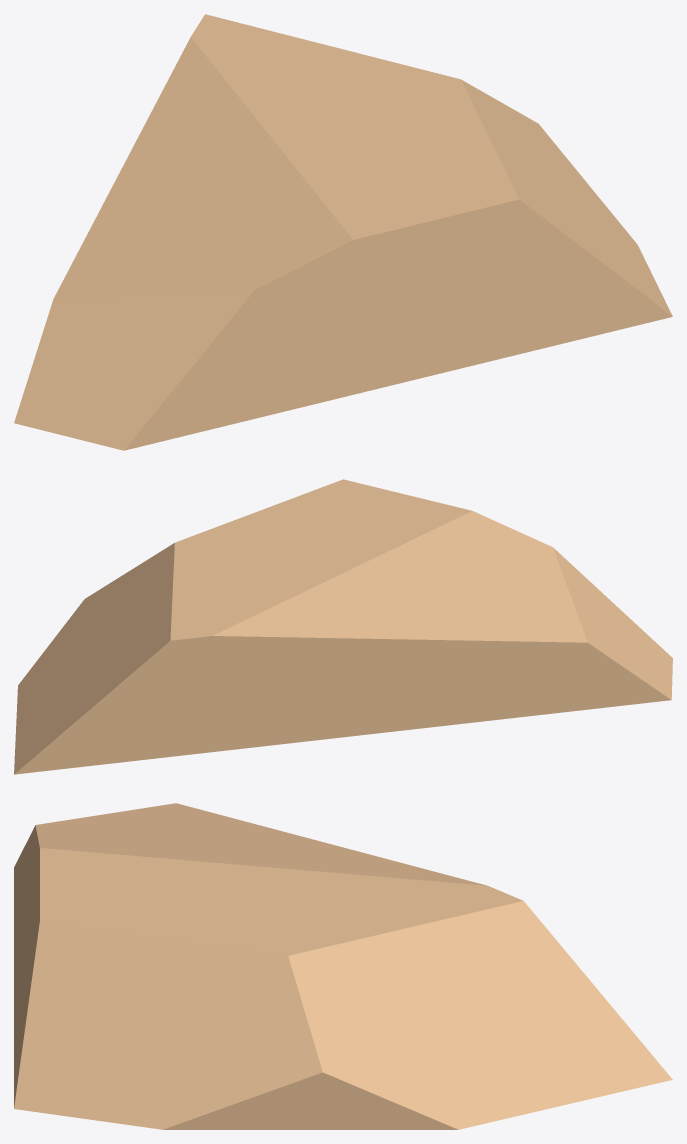
File: Rock_Flat_s_10.fbx
3 renders of one model, top to bottom at view 1: azimuth 30°, elevation 25°; view 2: azimuth 150°, elevation 25°; view 3: azimuth 270°, elevation 25°, orthographic. The views are drawn at different scales.
Parts seen in each view (by area): view 1: Rock_Flat_s_10; view 2: Rock_Flat_s_10; view 3: Rock_Flat_s_10.
Part boxes in pixels (x1,y1,x2,y2): Rock_Flat_s_10: [14, 14, 672, 450]; Rock_Flat_s_10: [14, 479, 672, 774]; Rock_Flat_s_10: [14, 803, 672, 1129].
Size of the model in its own units: 65.83 by 13.61 by 64.09.
